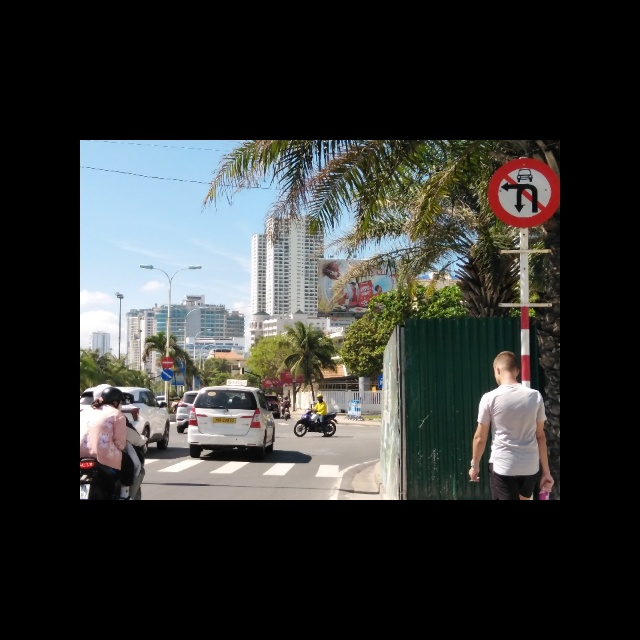Cấm xe ô tô quay đầu và rẽ trái: (488, 157, 560, 230)
